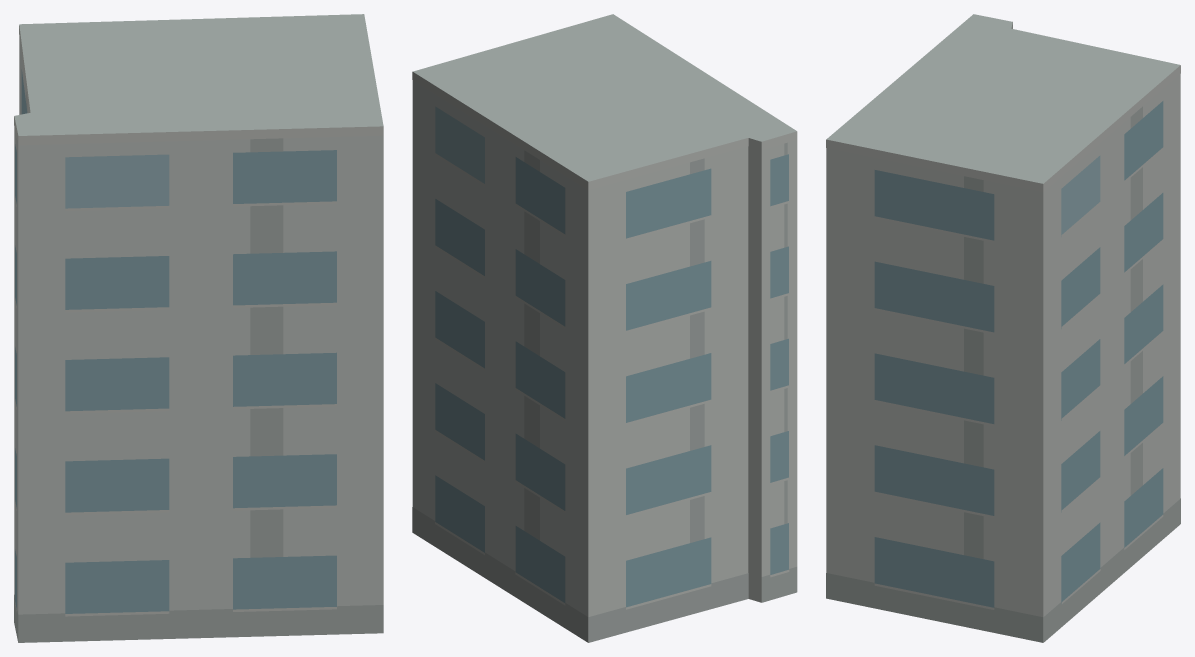
The model's file is survey-upis-32726256.glb.
3 renders of one model, left to right at view 1: azimuth 30°, elevation 25°; view 2: azimuth 150°, elevation 25°; view 3: azimuth 270°, elevation 25°, orthographic. The views are drawn at different scales.
Visible parts, largest first — view 1: survey-upis-32726256.tmp; view 2: survey-upis-32726256.tmp; view 3: survey-upis-32726256.tmp.
Boxes of the visible parts, box(x1,y1,x2,y2) form: survey-upis-32726256.tmp: box(14, 14, 383, 642); survey-upis-32726256.tmp: box(412, 14, 797, 642); survey-upis-32726256.tmp: box(826, 14, 1180, 642).
Size of the model in its own units: 10.49 by 13.2 by 9.25.
